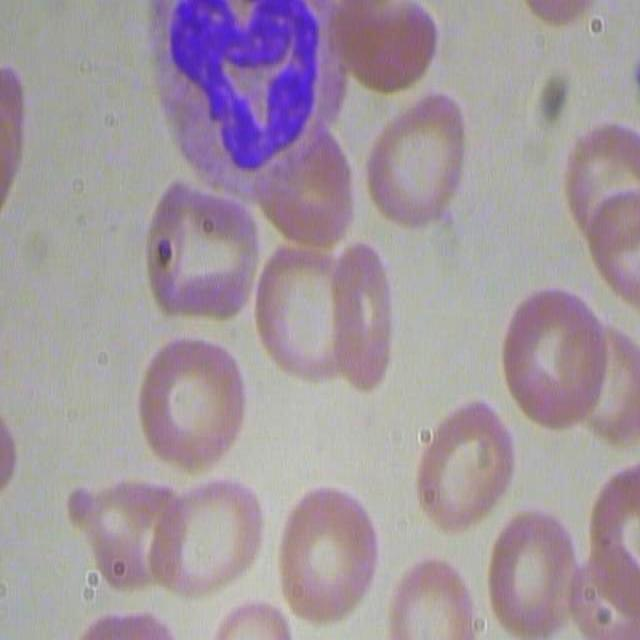RBC: (247, 239, 381, 391), (142, 171, 266, 331), (142, 459, 266, 604), (133, 327, 252, 478), (501, 284, 608, 437), (255, 110, 358, 268), (361, 88, 470, 232), (278, 485, 386, 627), (412, 399, 515, 539), (569, 118, 640, 299), (60, 480, 176, 584), (485, 504, 575, 637), (328, 1, 446, 101), (583, 469, 640, 635), (383, 552, 476, 638), (0, 52, 36, 226), (582, 326, 640, 434), (510, 0, 618, 47), (214, 596, 301, 640), (77, 607, 175, 640), (2, 416, 20, 501)
WBC: (154, 0, 330, 183)
